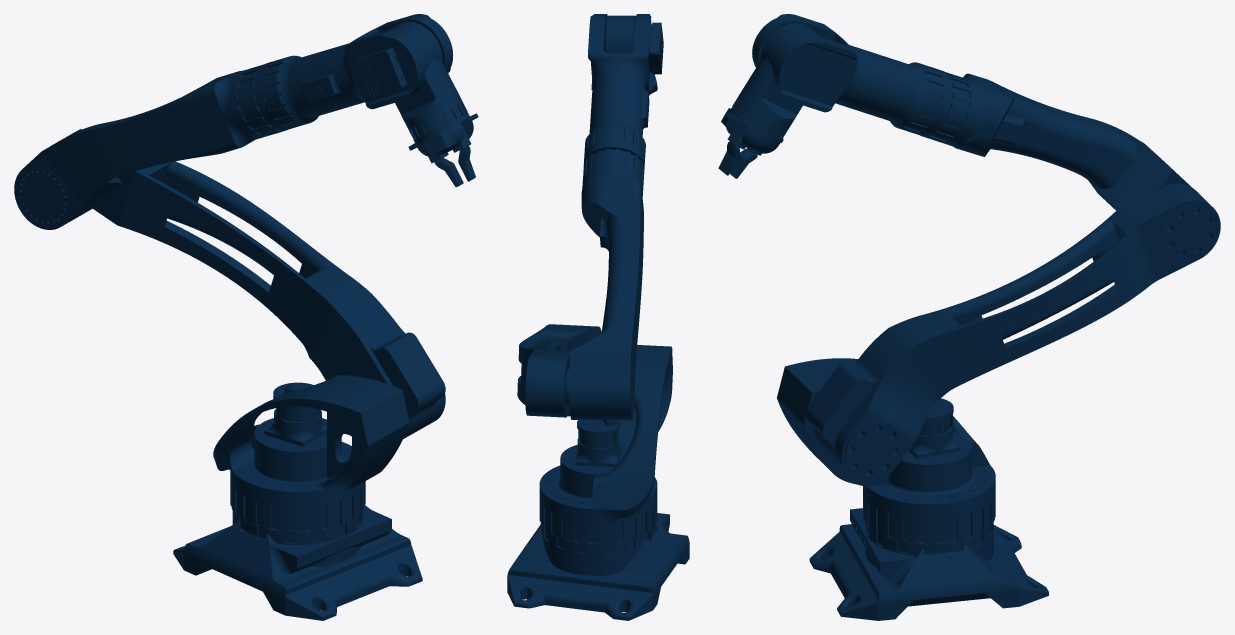
File: armfinal.glb
3 renders of one model, left to right at view 1: azimuth 30°, elevation 25°; view 2: azimuth 150°, elevation 25°; view 3: azimuth 270°, elevation 25°, orthographic. The views are drawn at different scales.
Parts seen in each view (by area): view 1: ARM___-_BASE__not_moving_, ARM___-_BASE__not_moving____-_BASE__rotating____-_ARM__prim; view 2: ARM___-_BASE__not_moving_, ARM___-_BASE__not_moving____-_BASE__rotating____-_ARM__prim; view 3: ARM___-_BASE__not_moving_, ARM___-_BASE__not_moving____-_BASE__rotating____-_ARM__prim.
Part boxes in pixels (<box>): ARM___-_BASE__not_moving_: <box>93,161,445,620</box>; ARM___-_BASE__not_moving____-_BASE__rotating____-_ARM__prim: <box>14,14,478,229</box>; ARM___-_BASE__not_moving_: <box>507,324,689,620</box>; ARM___-_BASE__not_moving____-_BASE__rotating____-_ARM__prim: <box>569,14,663,420</box>; ARM___-_BASE__not_moving_: <box>777,183,1220,620</box>; ARM___-_BASE__not_moving____-_BASE__rotating____-_ARM__prim: <box>718,14,1190,210</box>.
Bounding box in the file's own units: 0.3317 × 0.6998 × 0.558.
